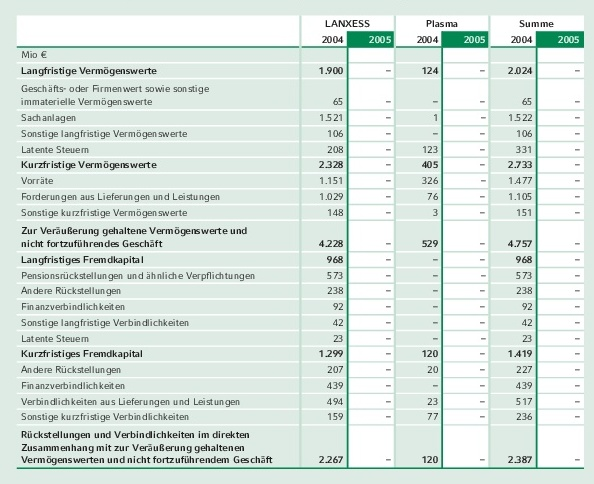table: (0, 0, 594, 484)
